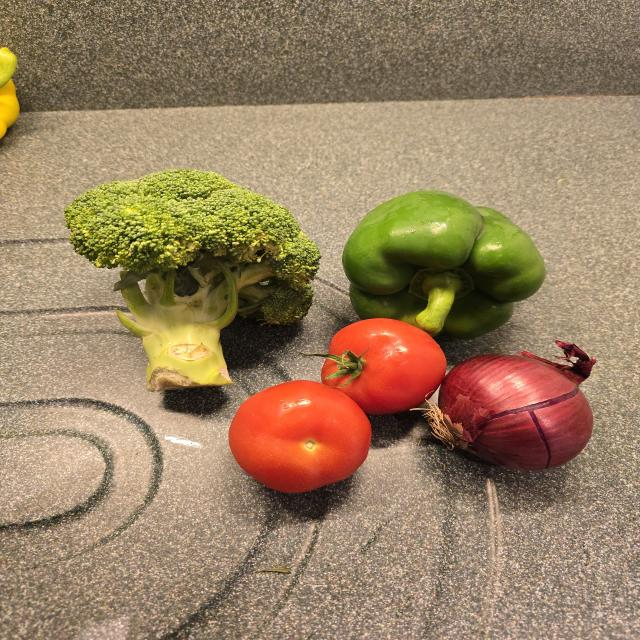Bell Pepper: (341, 190, 547, 341)
Broccoli: (65, 170, 321, 392)
Onion: (439, 343, 595, 470)
Tomato: (229, 380, 371, 492), (321, 319, 447, 415)
